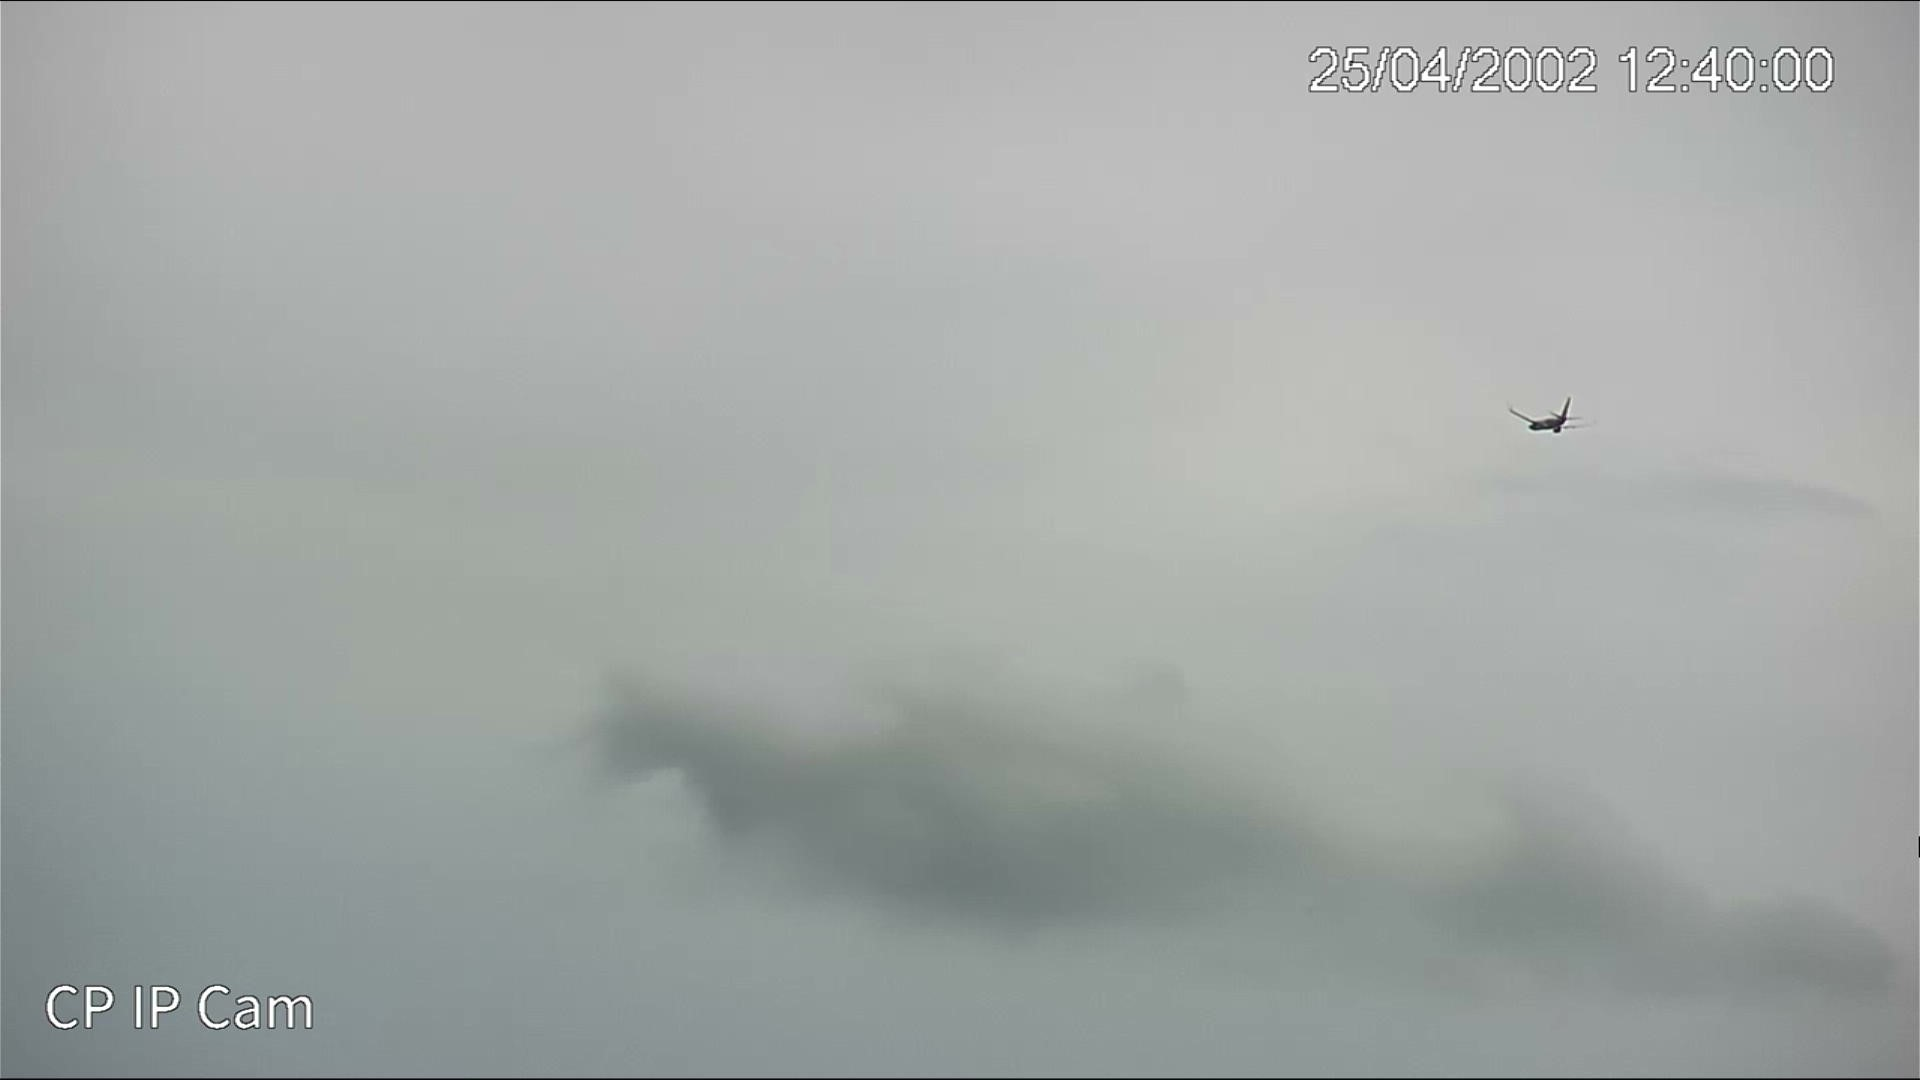SU_30: (1503, 393, 1578, 440)
